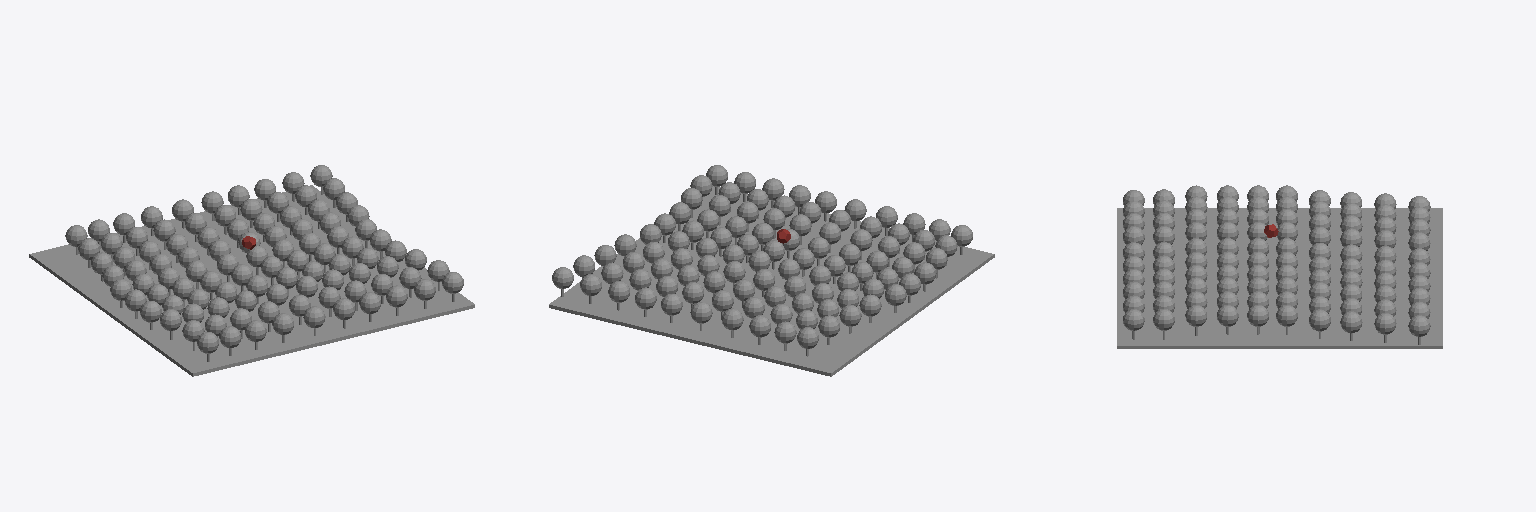
Rendered from floresta.obj.
3 views of the same model, side by side, from view 1: azimuth 30°, elevation 25°; view 2: azimuth 150°, elevation 25°; view 3: azimuth 270°, elevation 25° (orthographic).
Visible parts, largest first — view 1: mesh01; view 2: mesh01; view 3: mesh01.
Boxes of the visible parts, x1=… form: mesh01: x1=29, y1=185, x2=474, y2=376; mesh01: x1=549, y1=186, x2=994, y2=376; mesh01: x1=1117, y1=208, x2=1442, y2=348.
Size of the model in its own units: 674 by 115 by 657.